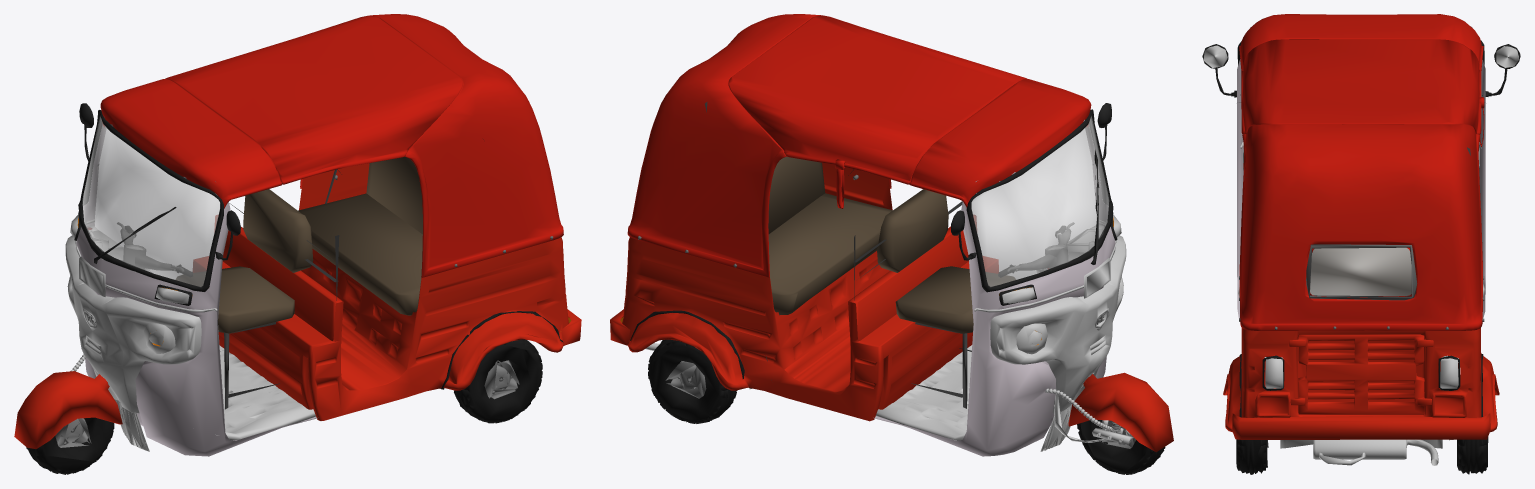
The model's file is autorick.glb.
3 views of the same model, side by side, from view 1: azimuth 30°, elevation 25°; view 2: azimuth 150°, elevation 25°; view 3: azimuth 270°, elevation 25° (orthographic).
Parts seen in each view (by area): view 1: car_detail, car_glass; view 2: car_detail, car_glass; view 3: car_detail, car_glass.
Boxes of the visible parts, x1,y1,x2,y2 form: car_detail: (14, 14, 581, 474); car_glass: (82, 116, 220, 287); car_detail: (610, 14, 1173, 474); car_glass: (971, 116, 1109, 287); car_detail: (1202, 14, 1520, 474); car_glass: (1310, 247, 1411, 296).
Size of the model in its own units: 2.65 by 1.72 by 1.48.
